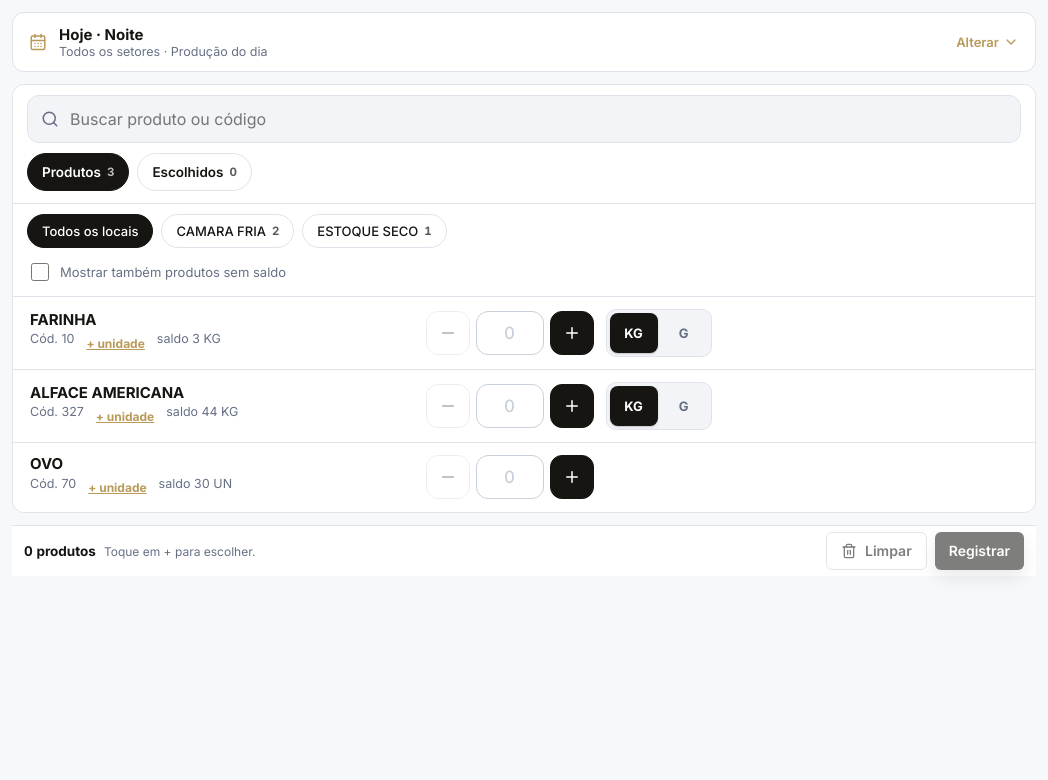
Test case: FormularioDaRequisicao › o botão + soma um passo (meio quilo) e o − tira, até sair da requisição
The image size is (1048, 780).
Expected: the text "FARINHA" is shown, [30,310,96,329]
Click the button named "Aumentar FARINHA": (572, 333) [550,311,594,355]
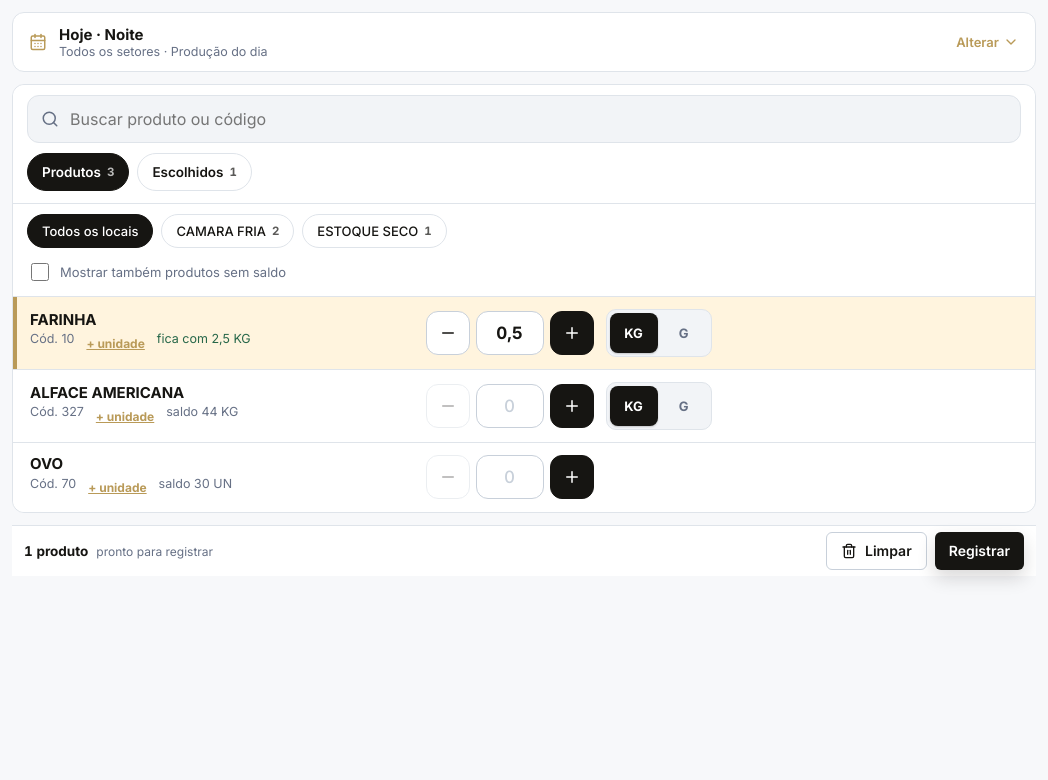
Click the button named "Diminuir FARINHA": (448, 333) [426,311,470,355]
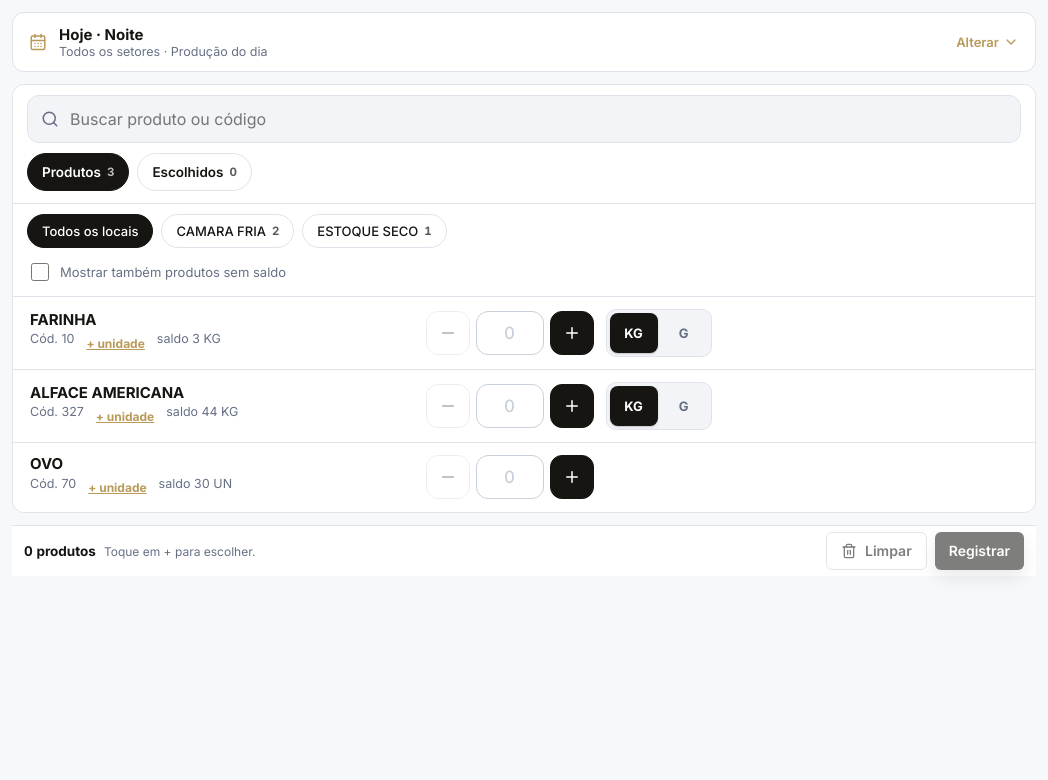
Expected: the button "Registrar" is disabled, [935,532,1024,570]
